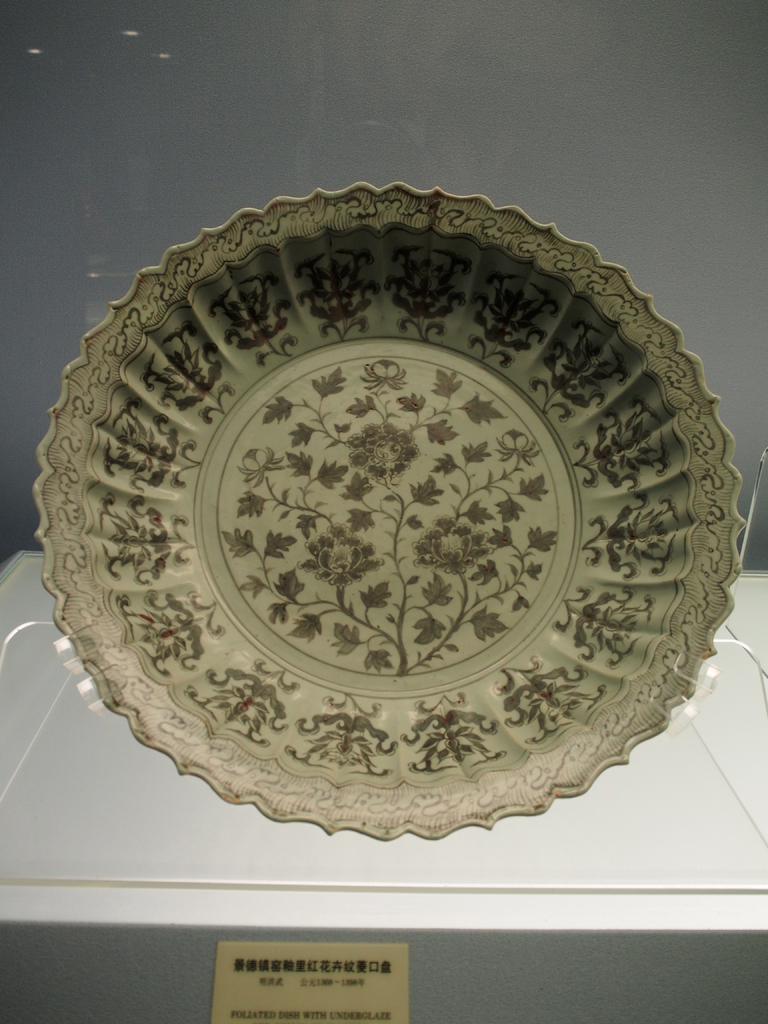plate: (32, 180, 746, 838)
